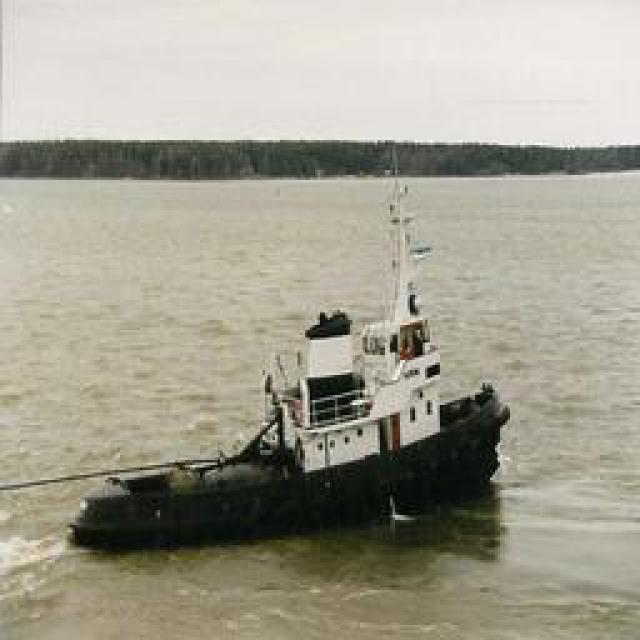Ship: (47, 150, 510, 565)
